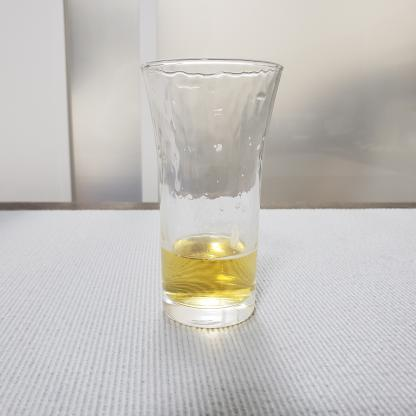glass: (134, 47, 303, 338)
